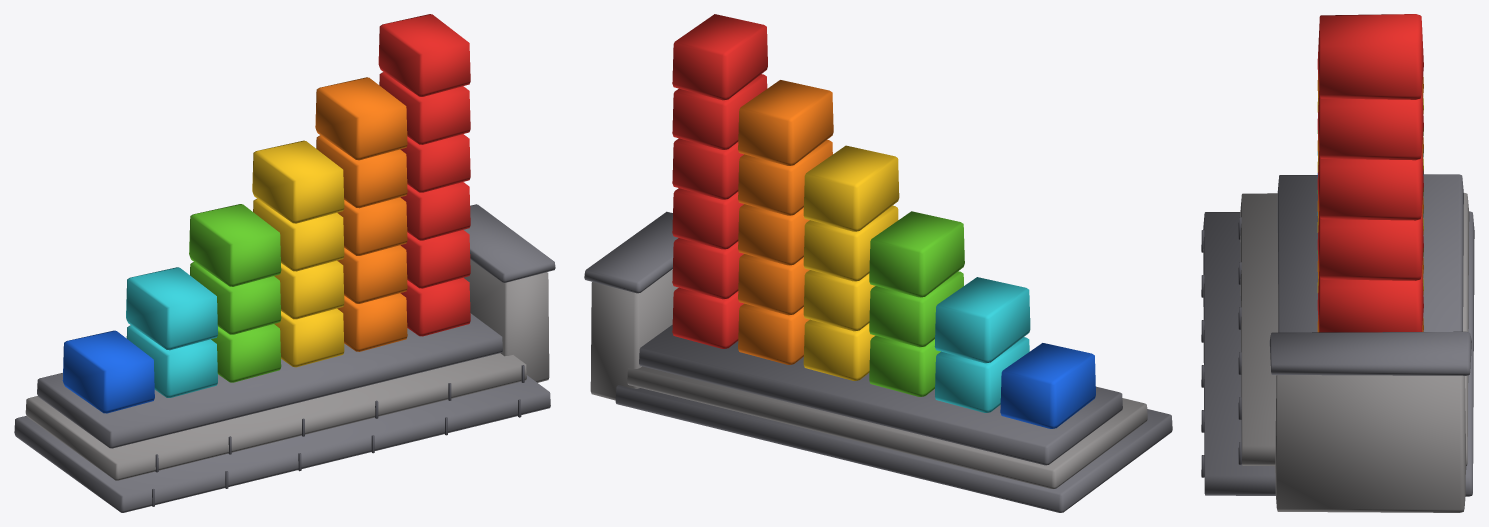
File: OBJ12_sort_steps.glb
3 renders of one model, left to right at view 1: azimuth 30°, elevation 25°; view 2: azimuth 150°, elevation 25°; view 3: azimuth 270°, elevation 25°, orthographic. The views are drawn at different scales.
Visible parts, largest first — view 1: Column_6, Column_5, PlinthCourse_0, PlinthCourse_2, PlinthCourse_1, Column_4, Column_3, Column_2, EndWall, Column_1, EndWallCap, PlinthJoints; view 2: Column_6, Column_5, PlinthCourse_2, Column_4, Column_3, PlinthCourse_0, PlinthCourse_1, Column_2, EndWall, Column_1, EndWallCap; view 3: Column_6, EndWall, PlinthCourse_0, PlinthCourse_2, PlinthCourse_1, EndWallCap, PlinthJoints, Column_5.
Part boxes in pixels (x1,y1,x2,y2): Column_6: [378, 14, 470, 336]; Column_5: [315, 77, 407, 351]; PlinthCourse_0: [14, 375, 550, 512]; PlinthCourse_2: [37, 313, 502, 448]; PlinthCourse_1: [25, 353, 526, 480]; Column_4: [252, 140, 344, 367]; Column_3: [189, 204, 281, 382]; Column_2: [126, 267, 217, 397]; EndWall: [464, 259, 549, 382]; Column_1: [62, 330, 154, 413]; EndWallCap: [463, 204, 555, 282]; PlinthJoints: [152, 365, 524, 506]; Column_6: [672, 14, 767, 348]; Column_5: [738, 80, 833, 364]; PlinthCourse_2: [639, 325, 1122, 465]; Column_4: [803, 145, 899, 380]; Column_3: [869, 211, 964, 396]; PlinthCourse_0: [615, 385, 1172, 512]; PlinthCourse_1: [627, 366, 1147, 489]; Column_2: [934, 277, 1030, 412]; EndWall: [590, 269, 678, 400]; Column_1: [1000, 343, 1095, 428]; EndWallCap: [584, 211, 678, 293]; Column_6: [1317, 14, 1423, 332]; EndWall: [1275, 375, 1466, 512]; PlinthCourse_0: [1203, 211, 1474, 496]; PlinthCourse_2: [1277, 174, 1463, 332]; PlinthCourse_1: [1240, 193, 1469, 465]; EndWallCap: [1269, 331, 1471, 375]; PlinthJoints: [1201, 217, 1241, 477]; Column_5: [1317, 74, 1423, 332].
Bounding box in the file's own units: 2.53 × 1.8 × 1.03.
